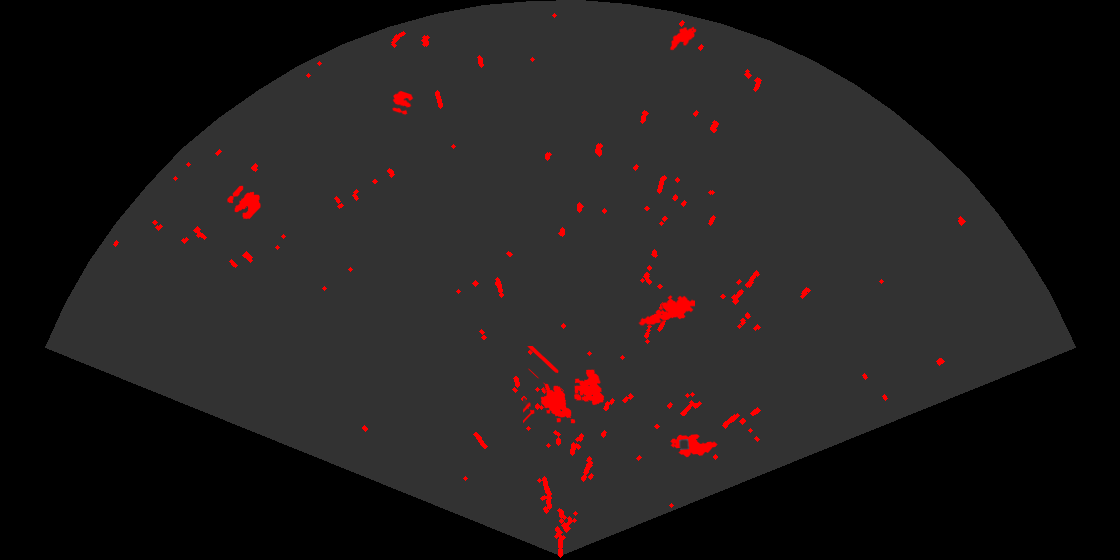AUV: (669, 433, 719, 459), (668, 25, 698, 52)
ball: (226, 184, 262, 221), (391, 89, 415, 117)
cage: (523, 346, 606, 425)
frogman: (638, 294, 695, 327)
